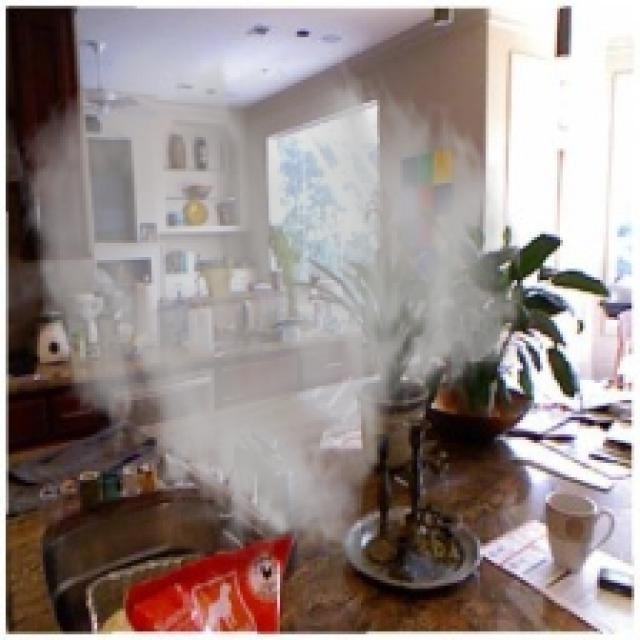smoke: (14, 32, 529, 574)
